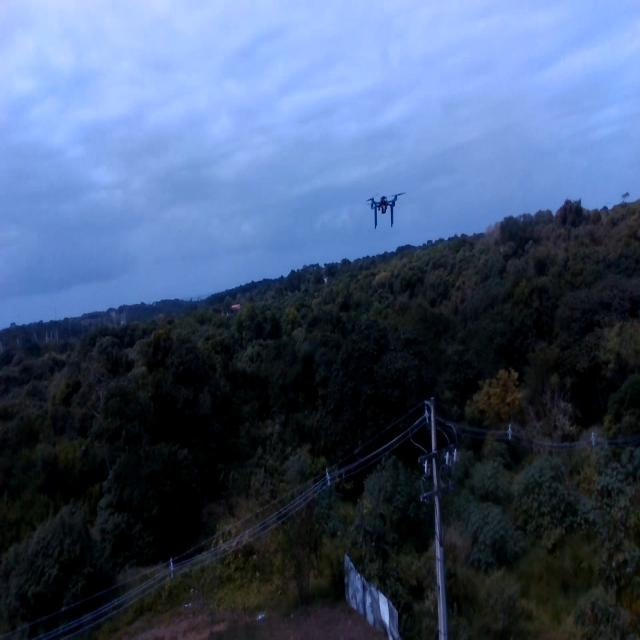-uav-: (360, 186, 408, 234)
